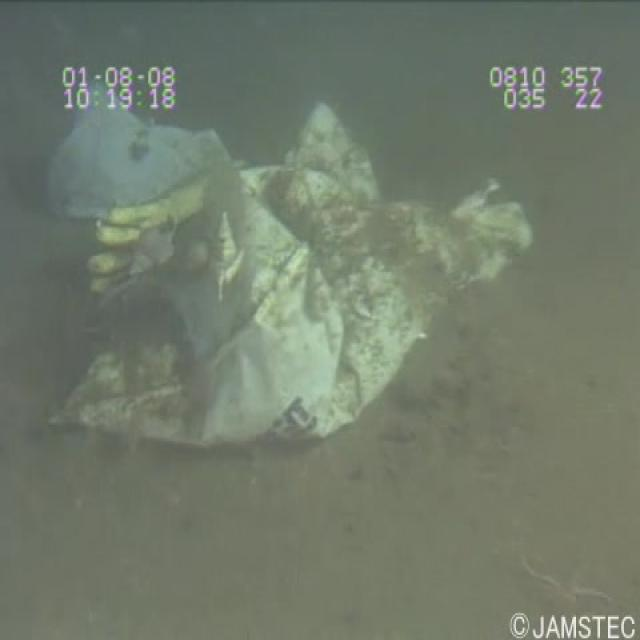plastic: (29, 61, 546, 477)
